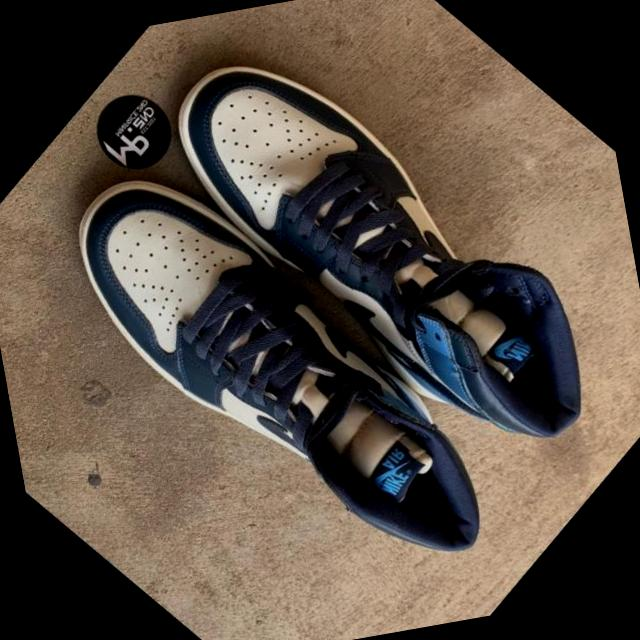nike_original_jordan: (15, 87, 548, 640), (113, 0, 640, 532)
